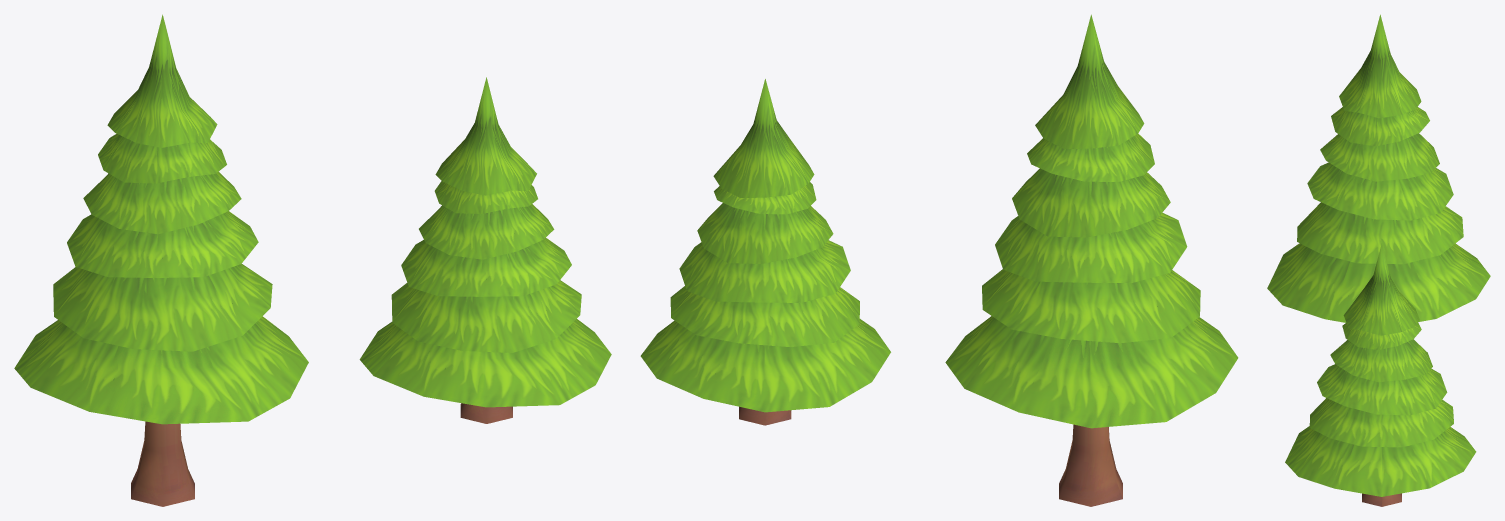
The model's file is trees.fbx.
3 views of the same model, side by side, from view 1: azimuth 30°, elevation 25°; view 2: azimuth 150°, elevation 25°; view 3: azimuth 270°, elevation 25° (orthographic). The views are drawn at different scales.
Visible parts, largest first — view 1: Fir_v1_2, Fir_v1_1; view 2: Fir_v1_2, Fir_v1_1; view 3: Fir_v1_2, Fir_v1_1.
Part boxes in pixels (left/top/right/bottom): Fir_v1_2: left=14, top=14, right=308, bottom=506; Fir_v1_1: left=359, top=77, right=611, bottom=423; Fir_v1_2: left=945, top=14, right=1238, bottom=506; Fir_v1_1: left=640, top=79, right=890, bottom=425; Fir_v1_2: left=1267, top=14, right=1490, bottom=322; Fir_v1_1: left=1285, top=243, right=1476, bottom=506.
Bounding box in the file's own units: 914 × 743 × 415.
1 material, 1 textured.
